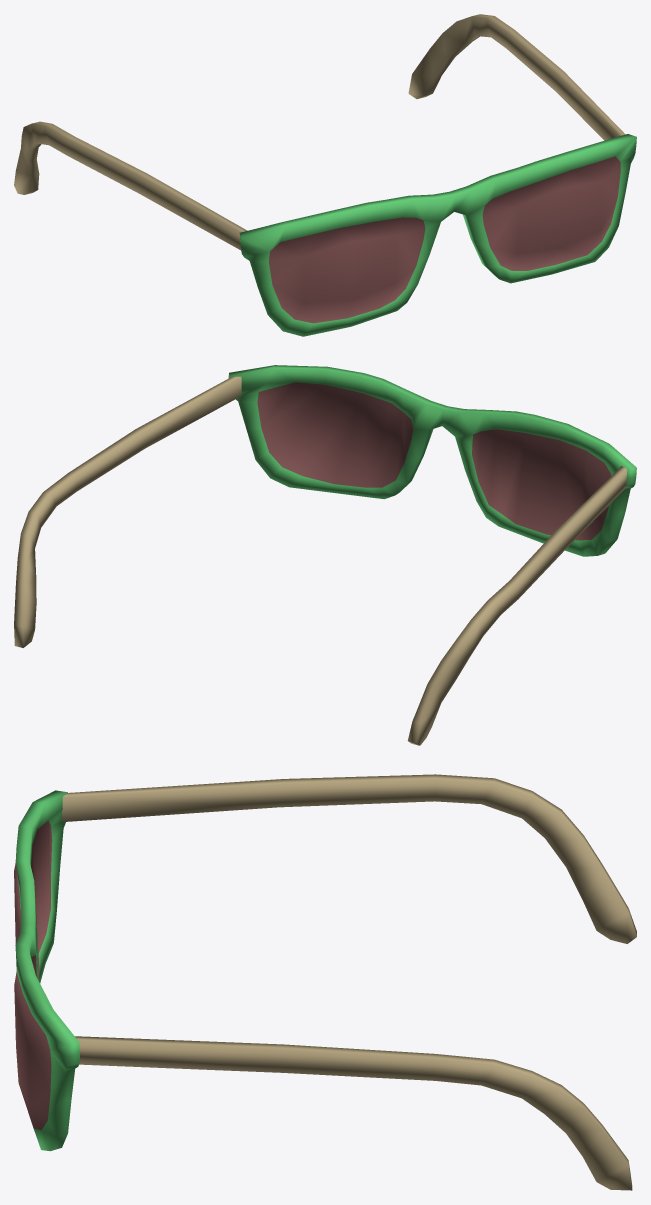
The model's file is glasses.obj.
3 views of the same model, one above another, from view 1: azimuth 30°, elevation 25°; view 2: azimuth 150°, elevation 25°; view 3: azimuth 270°, elevation 25° (orthographic). The views are drawn at different scales.
Visible parts, largest first — view 1: klienerglasses_reference; view 2: klienerglasses_reference; view 3: klienerglasses_reference.
Part boxes in pixels (x1=…): klienerglasses_reference: x1=14, y1=14, x2=636, y2=336; klienerglasses_reference: x1=14, y1=365, x2=636, y2=745; klienerglasses_reference: x1=14, y1=774, x2=636, y2=1190.
Size of the model in its own units: 6.59 by 1.81 by 6.05.
